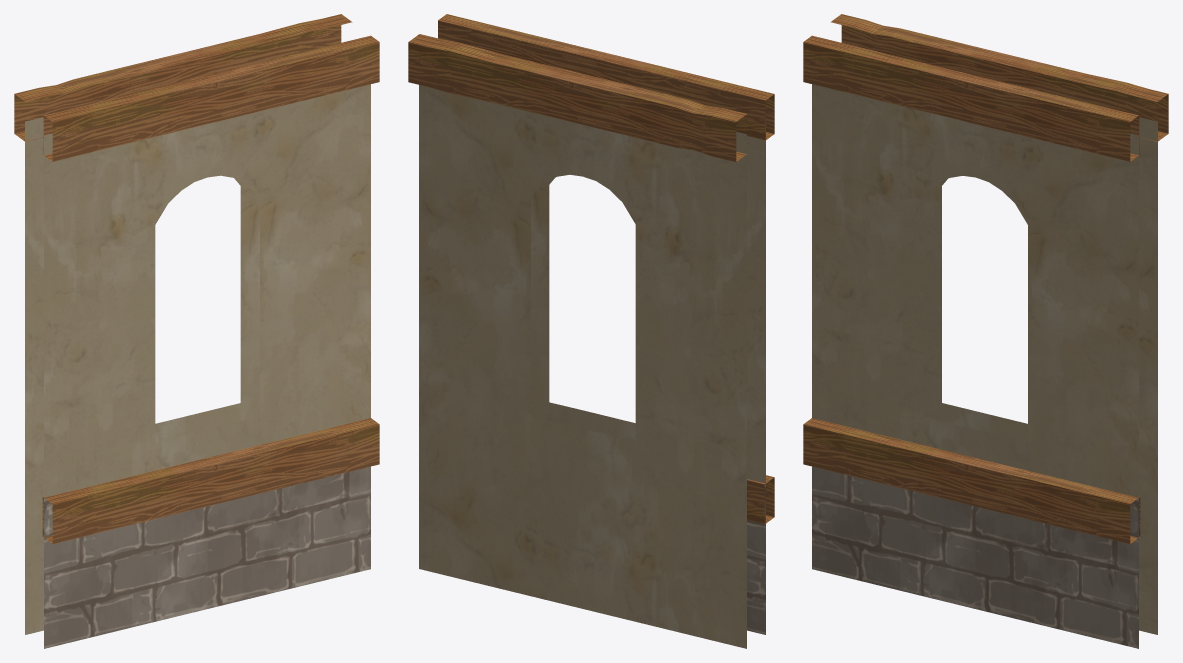
The model's file is Wall_Plaster_Window_Thin_Round.gltf.
3 renders of one model, left to right at view 1: azimuth 30°, elevation 25°; view 2: azimuth 150°, elevation 25°; view 3: azimuth 330°, elevation 25°, orthographic.
Parts seen in each view (by area): view 1: Wall_Plaster_Window_Thin_Round; view 2: Wall_Plaster_Window_Thin_Round; view 3: Wall_Plaster_Window_Thin_Round.
Boxes of the visible parts, <box> form: Wall_Plaster_Window_Thin_Round: <box>14,14,379,648</box>; Wall_Plaster_Window_Thin_Round: <box>408,14,774,648</box>; Wall_Plaster_Window_Thin_Round: <box>803,14,1168,648</box>.
Size of the model in its own units: 2 by 3.12 by 0.4065.
3 materials, 3 textured.
